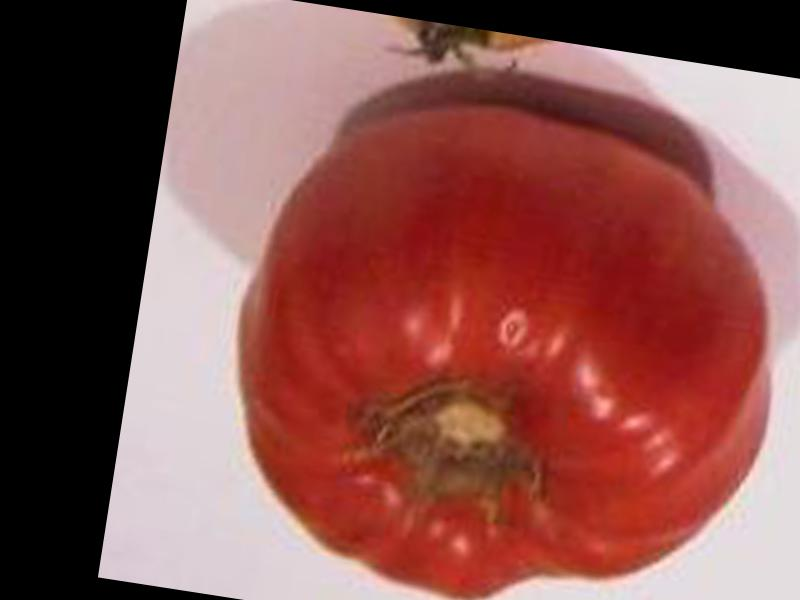Tomato: (206, 80, 800, 600)
